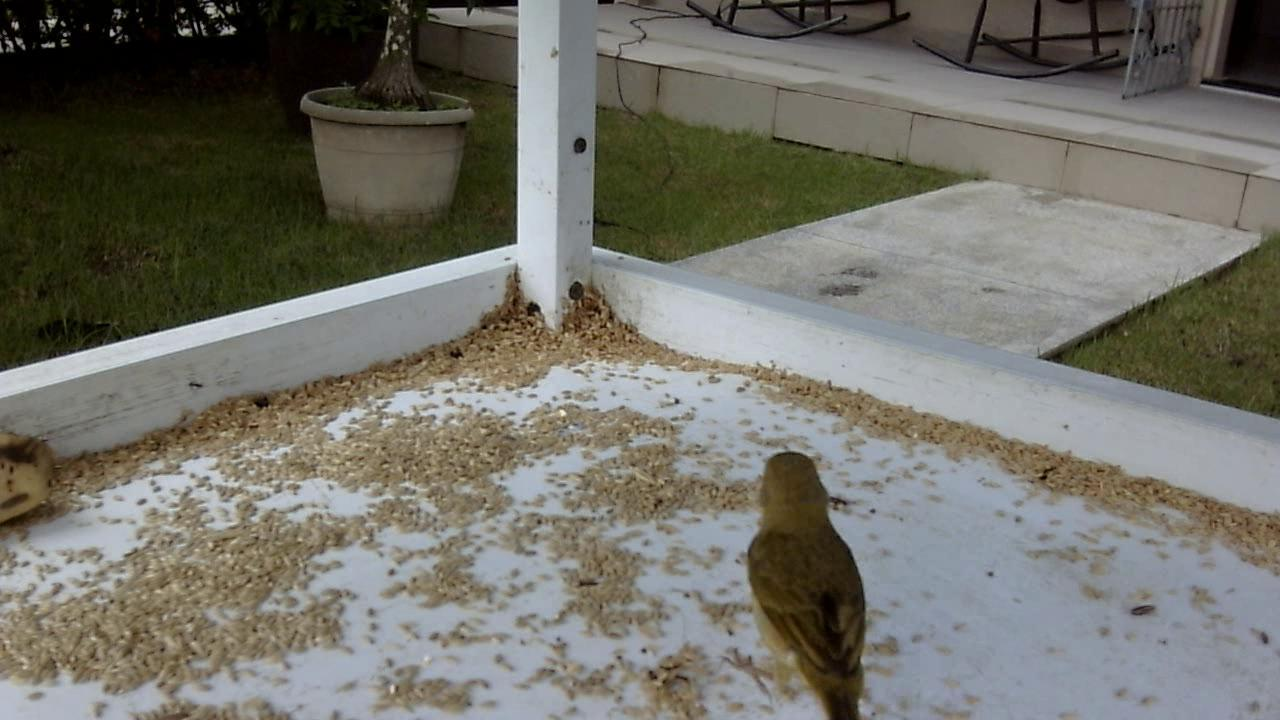canario_do_amazonas: (734, 445, 876, 716)
